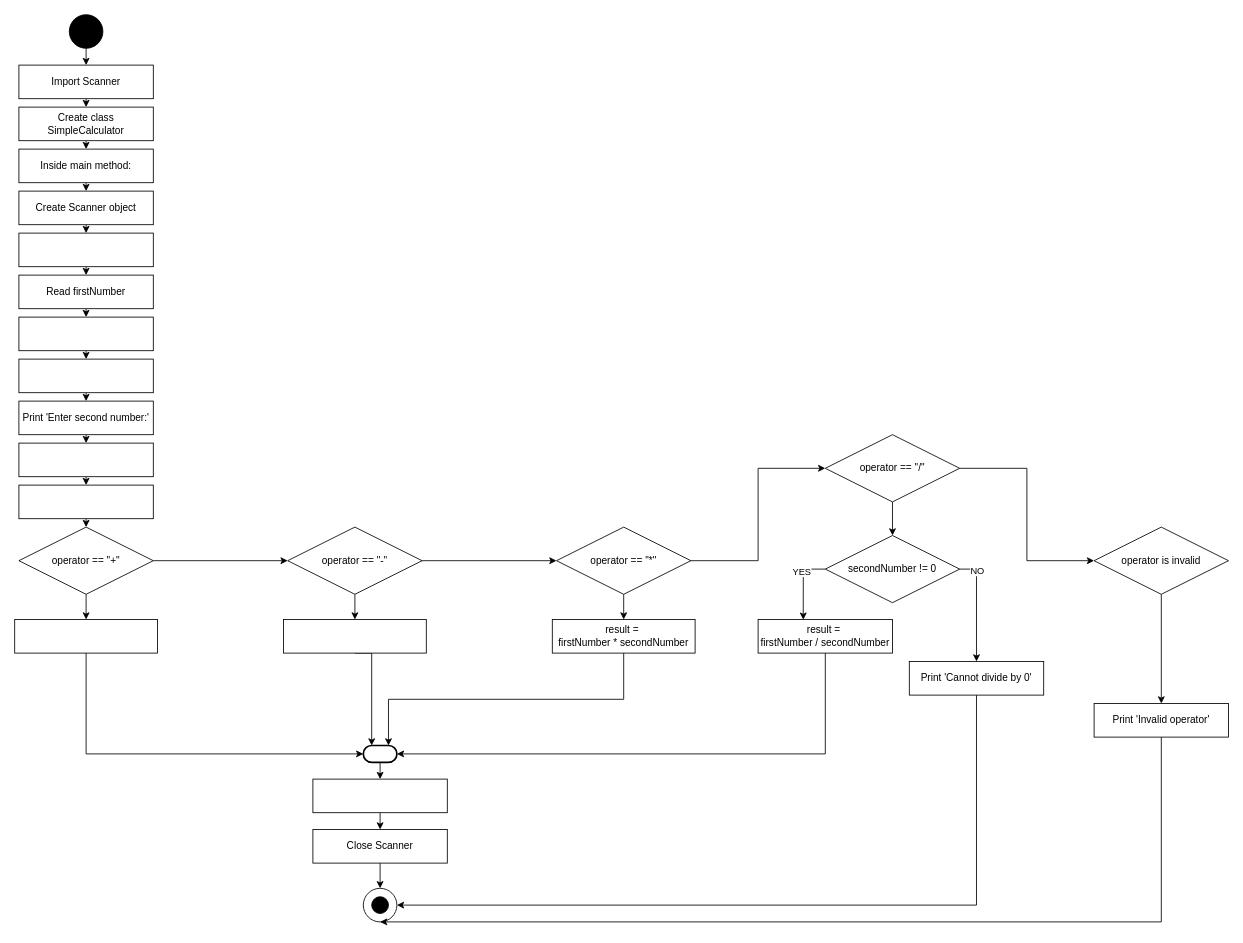
Some shapes in this 1243 by 943 pixel diagram are drawn without their labels. Each missing label, with the centre of its shape:
"Declare and initialize result variable" belongs at [85,501].
"Print 'Enter first number:'" belongs at [85,249].
"Print 'Enter operator (+,-,*,/):'" belongs at [85,333].
"Print 'Result is: ' + result" belongs at [379,795].
"Read operator" belongs at [85,375].
"Read secondNumber" belongs at [85,459].
"result = firstNumber + secondNumber" belongs at [86,636].
"result = firstNumber - secondNumber" belongs at [354,636].
